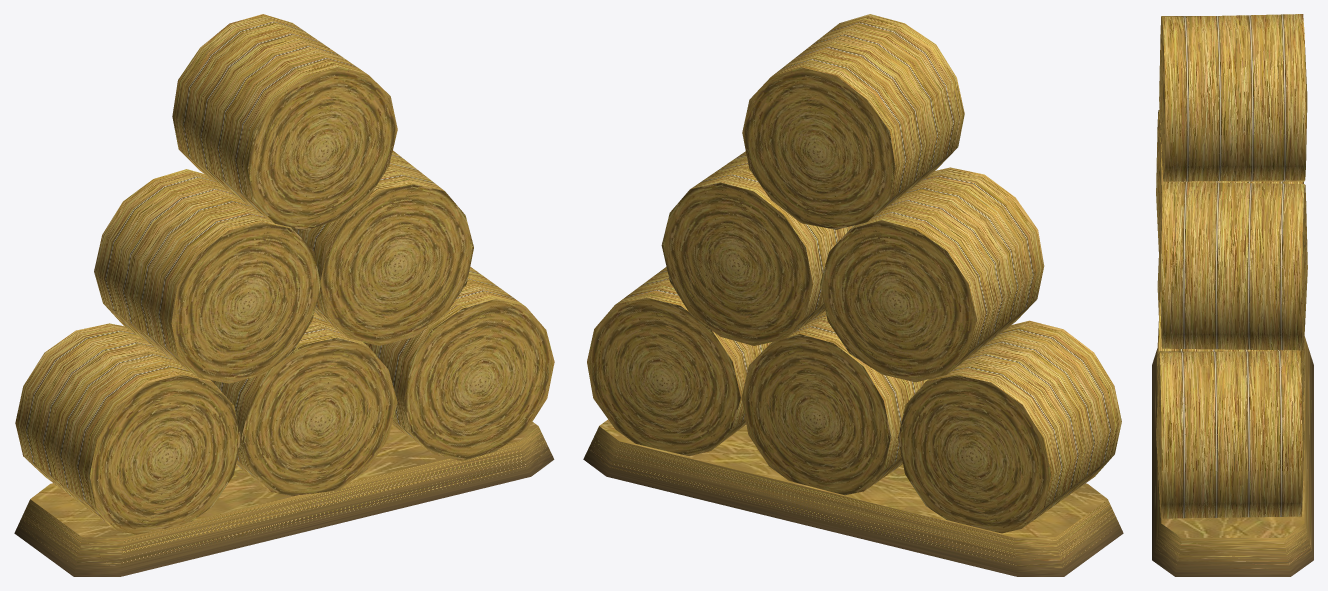
File: straw_bale_stack.glb
The picture shows the model from 3 angles, left to right: view 1: azimuth 30°, elevation 25°; view 2: azimuth 150°, elevation 25°; view 3: azimuth 270°, elevation 25°; orthographic projection. The views are drawn at different scales.
Visible parts, largest first — view 1: Straw_Bale_Stack; view 2: Straw_Bale_Stack; view 3: Straw_Bale_Stack.
Boxes of the visible parts, x1,y1,x2,y2 form: Straw_Bale_Stack: (14, 14, 554, 576); Straw_Bale_Stack: (583, 14, 1123, 576); Straw_Bale_Stack: (1152, 14, 1313, 576).
Bounding box in the file's own units: 4.68 × 4.2 × 1.4.
Materials: 1 (1 with a texture image).
